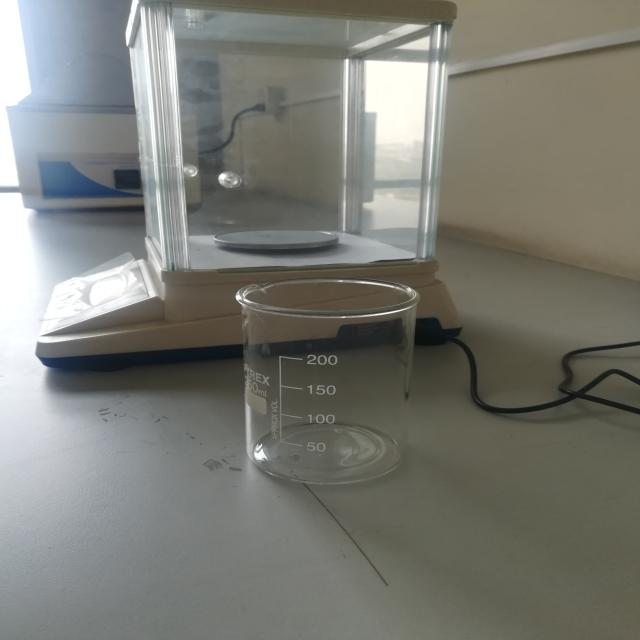Beaker: (188, 247, 456, 518)
